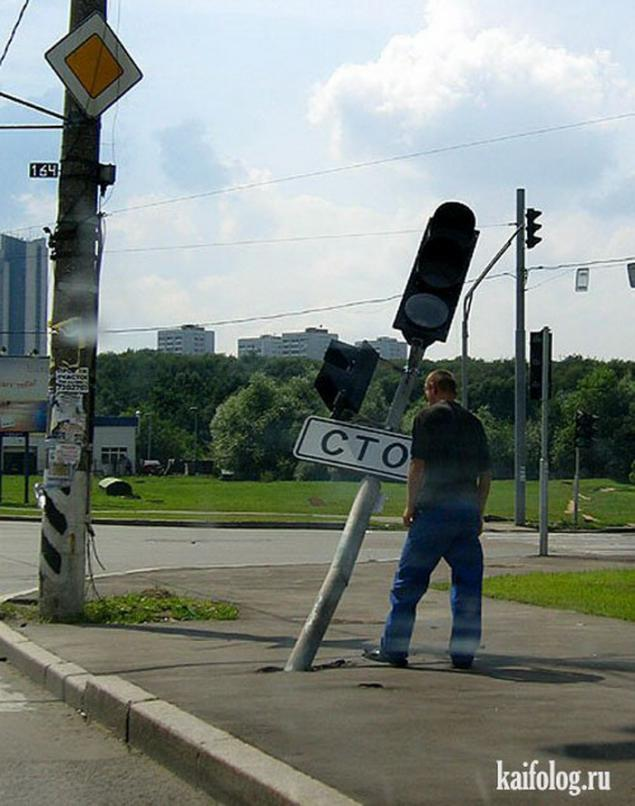obstructed_road_sign: (293, 416, 410, 481)
off traffic light: (392, 201, 480, 341), (315, 340, 378, 420), (527, 208, 542, 248)
road_sign: (45, 10, 144, 117)
